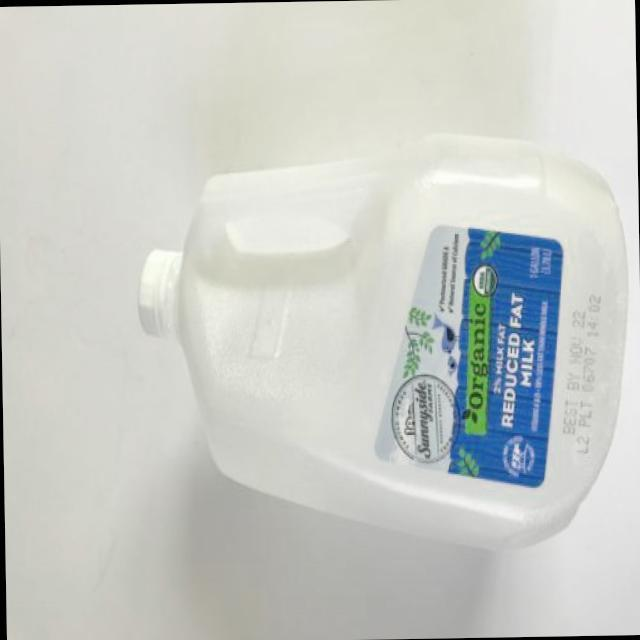HDPE Plastic: (134, 127, 632, 557)
